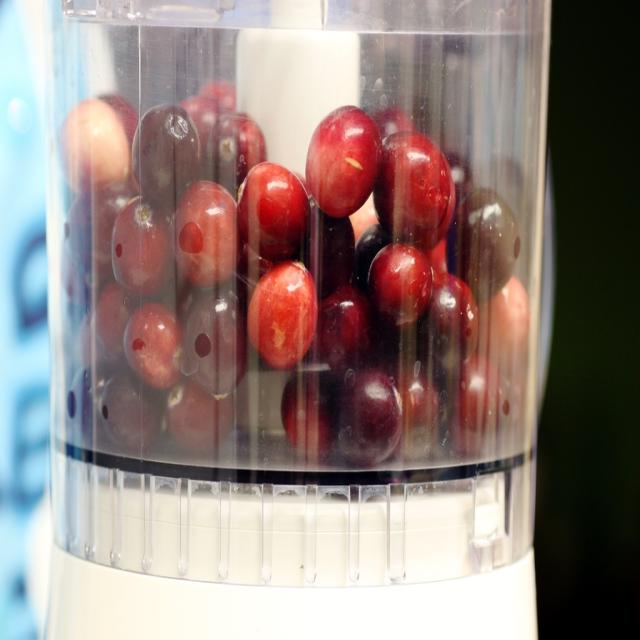Healty Apple: (243, 250, 318, 371)
